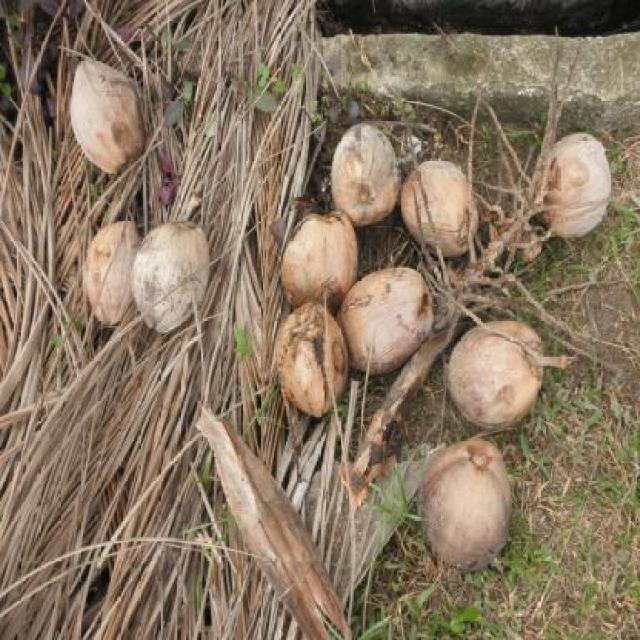Coconut: (418, 434, 510, 568), (447, 316, 550, 433), (337, 268, 432, 370), (129, 218, 208, 336), (74, 56, 146, 176), (276, 300, 350, 416), (532, 134, 612, 240), (400, 159, 478, 259), (279, 213, 358, 310), (332, 124, 401, 225), (84, 218, 140, 330)
